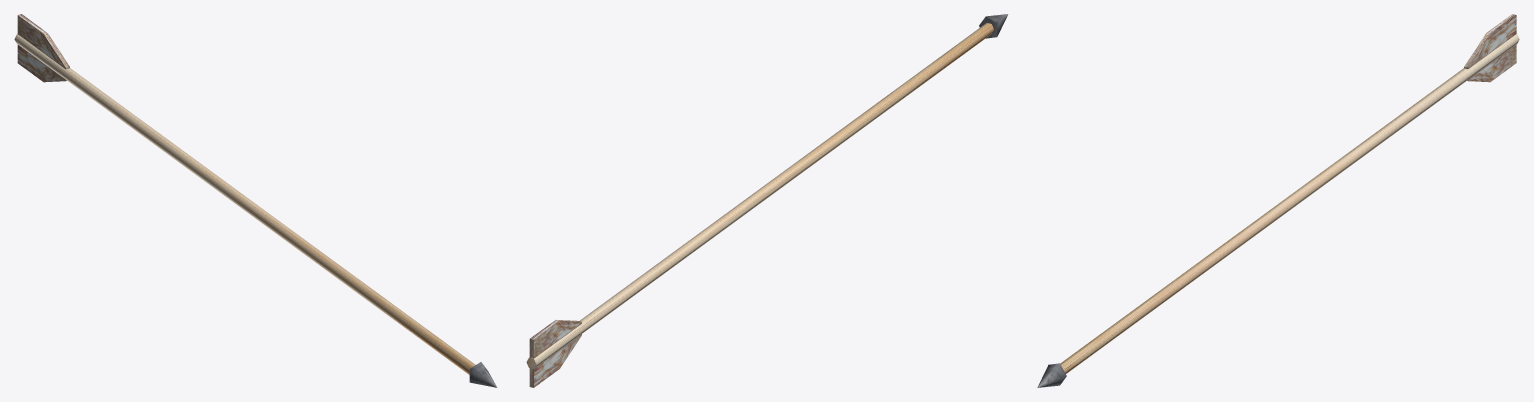
Rendered from Flecha.FBX.
3 views of the same model, side by side, from view 1: azimuth 30°, elevation 25°; view 2: azimuth 150°, elevation 25°; view 3: azimuth 330°, elevation 25° (orthographic).
Parts seen in each view (by area): view 1: Arco&Flecha; view 2: Arco&Flecha; view 3: Arco&Flecha.
Part boxes in pixels (<box>): Arco&Flecha: <box>14,14,497,387</box>; Arco&Flecha: <box>526,14,1008,387</box>; Arco&Flecha: <box>1037,14,1519,387</box>.
Size of the model in its own units: 0.0298 by 0.0744 by 1.34.
Materials: 3 (3 with a texture image).
